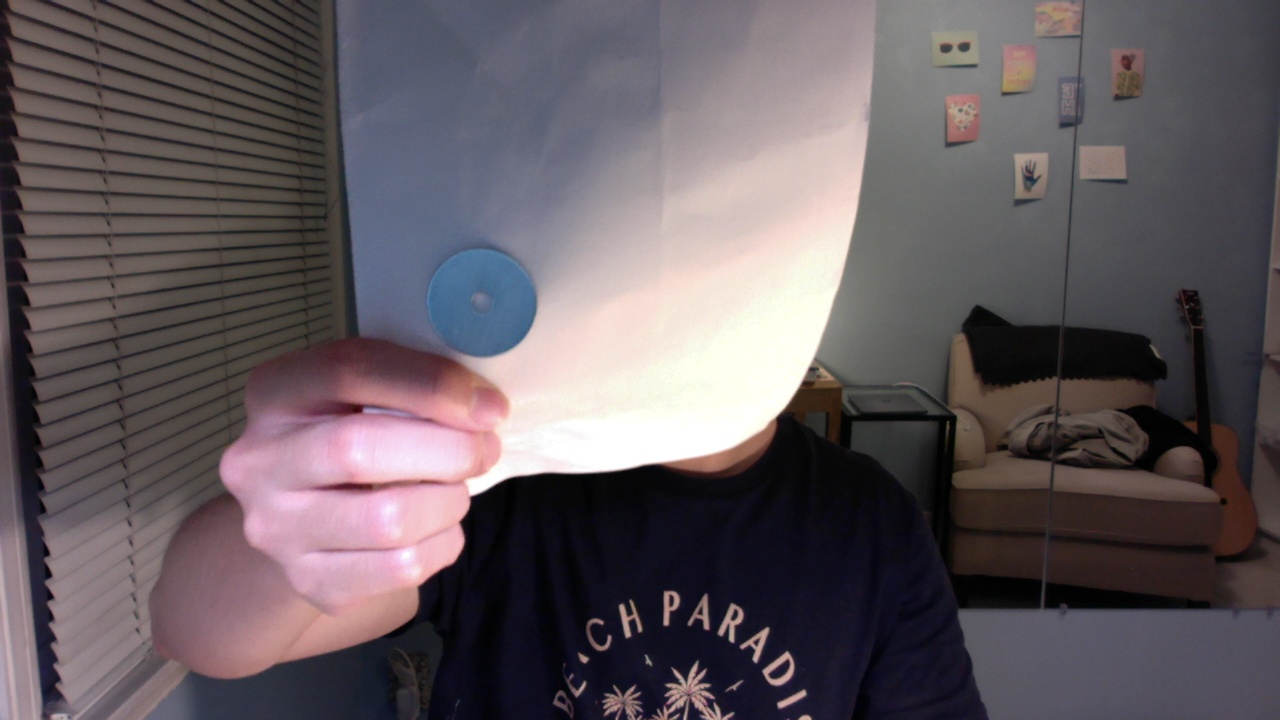NonDetectiveWashers: (424, 248, 537, 360)
